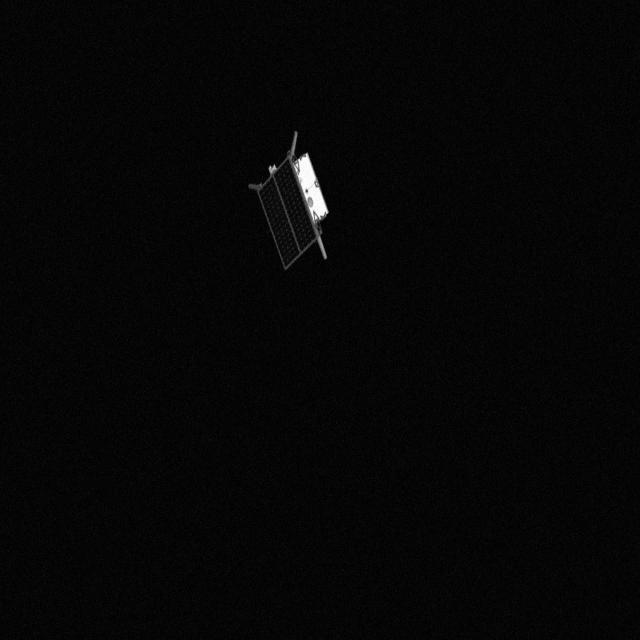satellite: (246, 130, 338, 272)
